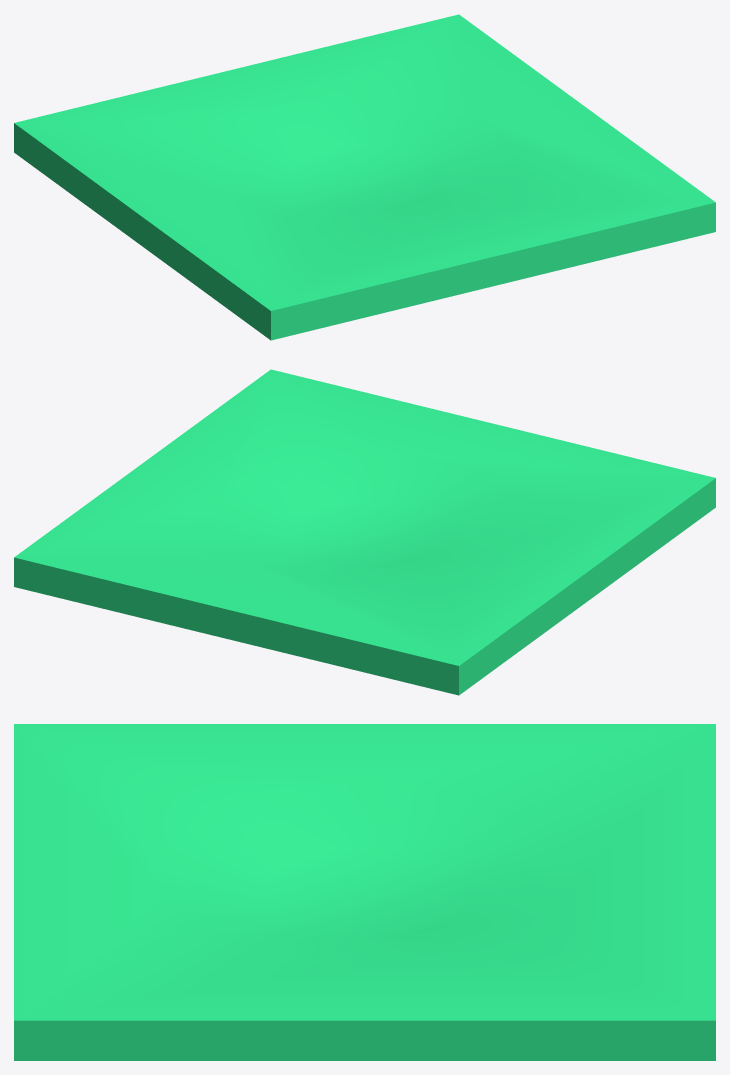
The model's file is bumpDown.fbx.
The picture shows the model from 3 angles, top to bottom: view 1: azimuth 30°, elevation 25°; view 2: azimuth 150°, elevation 25°; view 3: azimuth 270°, elevation 25°; orthographic projection. The views are drawn at different scales.
Parts seen in each view (by area): view 1: bumpDown; view 2: bumpDown; view 3: bumpDown.
Boxes of the visible parts, bbox=[...] form: bumpDown: bbox=[14, 14, 715, 340]; bumpDown: bbox=[14, 369, 715, 695]; bumpDown: bbox=[14, 724, 715, 1060].
Bounding box in the file's own units: 10 × 0.6333 × 10.
